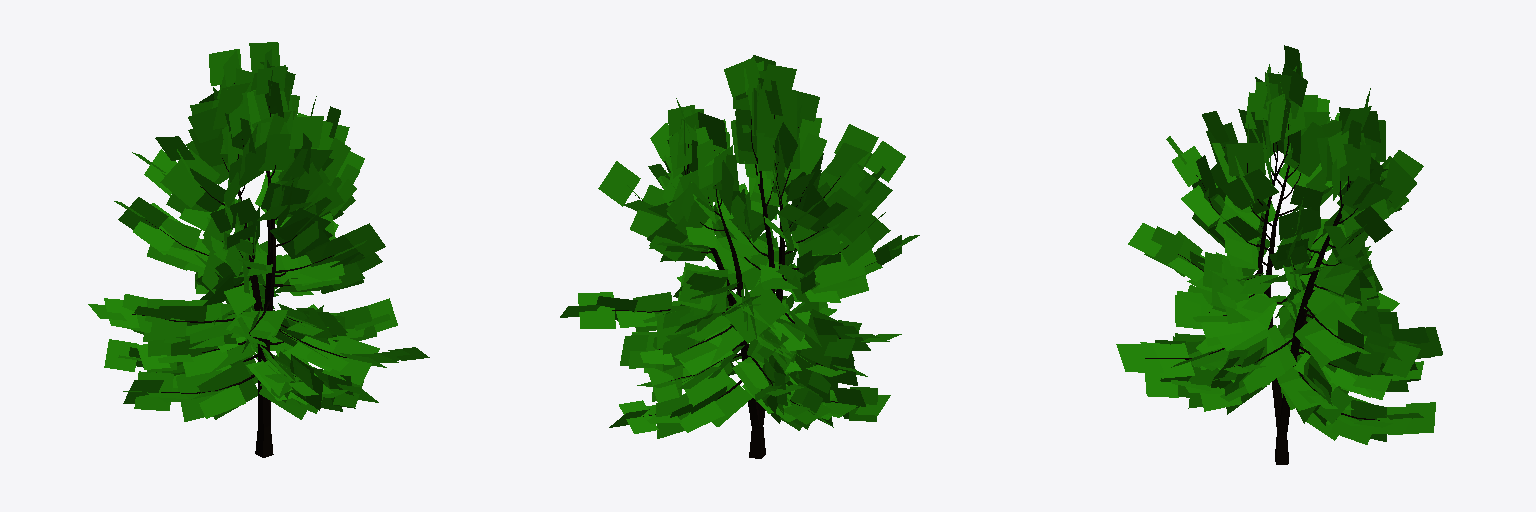
Rendered from tree.obj.
The picture shows the model from 3 angles: view 1: azimuth 30°, elevation 25°; view 2: azimuth 150°, elevation 25°; view 3: azimuth 270°, elevation 25°; orthographic projection.
Bounding box in the file's own units: 3.85 × 5.09 × 3.75.